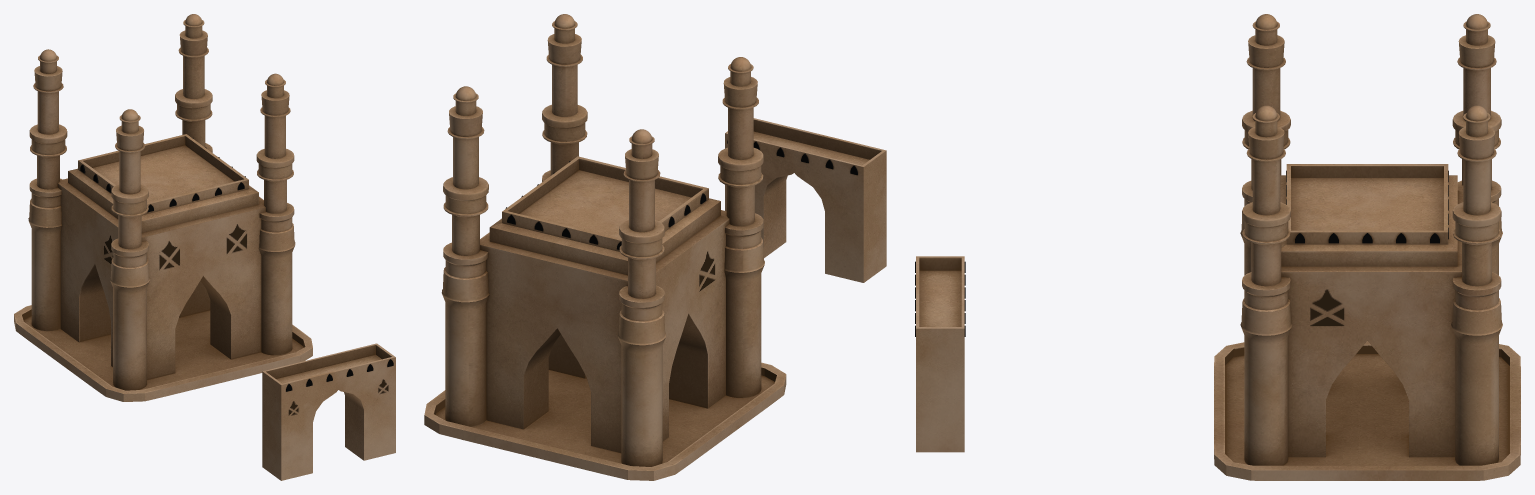
File: charminar.glb
3 views of the same model, side by side, from view 1: azimuth 30°, elevation 25°; view 2: azimuth 150°, elevation 25°; view 3: azimuth 270°, elevation 25° (orthographic). The views are drawn at different scales.
Parts seen in each view (by area): view 1: Charminar_LP (×2); view 2: Charminar_LP (×2); view 3: Charminar_LP (×2).
Boxes of the visible parts, x1,y1,x2,y2 form: Charminar_LP (×2): (14, 14, 395, 480); Charminar_LP (×2): (424, 14, 886, 480); Charminar_LP (×2): (915, 14, 1520, 480).
Size of the model in its own units: 74.66 by 95.34 by 147.
2 materials, 2 textured.
